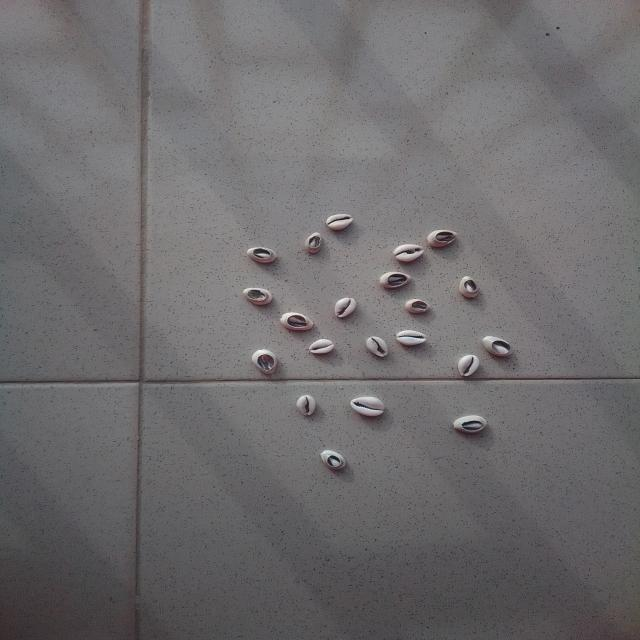facedown: (446, 414, 491, 436), (480, 331, 514, 360), (250, 347, 281, 376), (456, 272, 490, 298), (239, 285, 278, 307), (425, 226, 463, 248), (378, 268, 412, 292), (280, 311, 316, 333), (316, 449, 352, 471), (247, 245, 280, 268), (403, 296, 433, 318), (303, 232, 324, 253)
faceup: (349, 391, 387, 419), (453, 353, 483, 380), (322, 211, 358, 232), (291, 393, 321, 418), (395, 328, 430, 349), (363, 334, 392, 358), (392, 242, 424, 263), (334, 296, 362, 320), (306, 338, 337, 357)
